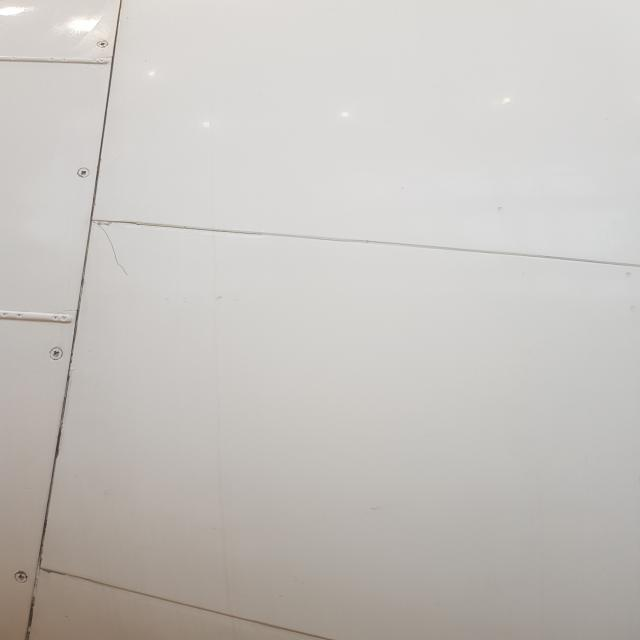crack: (91, 220, 131, 272)
